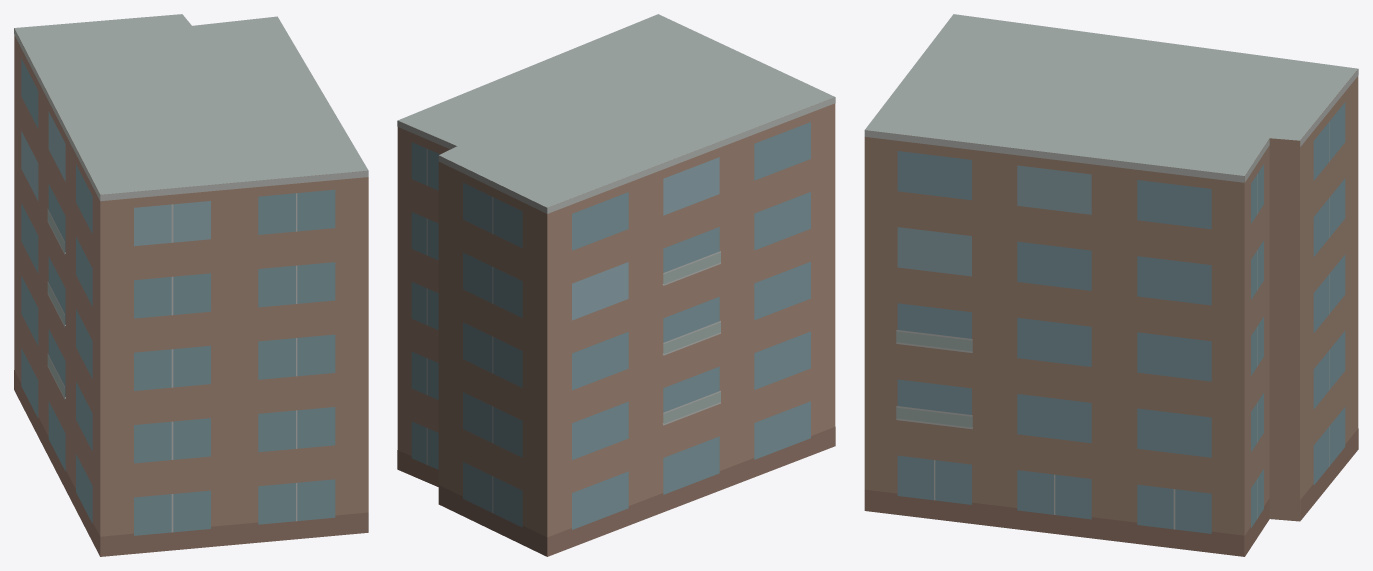
The model's file is survey-upis-32870048.glb.
3 renders of one model, left to right at view 1: azimuth 30°, elevation 25°; view 2: azimuth 150°, elevation 25°; view 3: azimuth 270°, elevation 25°, orthographic. The views are drawn at different scales.
Visible parts, largest first — view 1: survey-upis-32870048.tmp; view 2: survey-upis-32870048.tmp; view 3: survey-upis-32870048.tmp.
Part boxes in pixels (x1,y1,x2,y2): survey-upis-32870048.tmp: (14, 14, 368, 556); survey-upis-32870048.tmp: (397, 14, 835, 556); survey-upis-32870048.tmp: (864, 14, 1358, 556).
Bounding box in the file's own units: 12.61 × 13.8 × 16.23.
